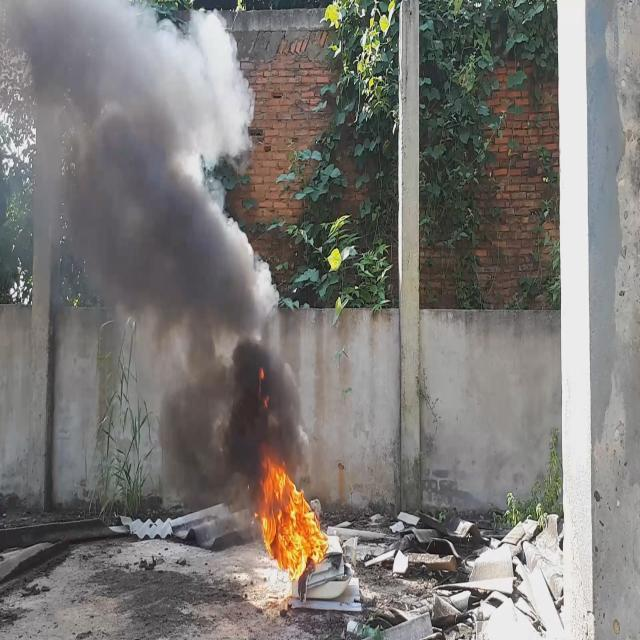Fire: (260, 444, 330, 581)
Smoke: (0, 0, 307, 496)
